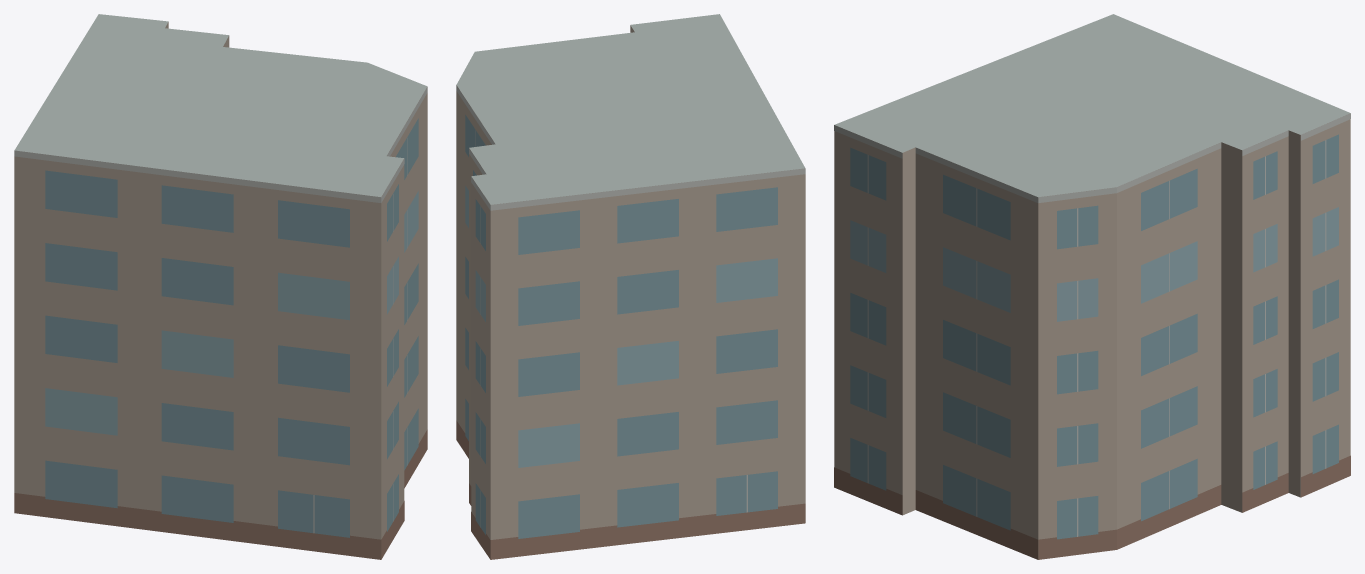
Rendered from survey-upis-32680756.glb.
3 renders of one model, left to right at view 1: azimuth 30°, elevation 25°; view 2: azimuth 150°, elevation 25°; view 3: azimuth 270°, elevation 25°, orthographic. The views are drawn at different scales.
Parts seen in each view (by area): view 1: survey-upis-32680756.tmp; view 2: survey-upis-32680756.tmp; view 3: survey-upis-32680756.tmp.
Boxes of the visible parts, <box> form: survey-upis-32680756.tmp: <box>14,14,427,559</box>; survey-upis-32680756.tmp: <box>456,14,805,559</box>; survey-upis-32680756.tmp: <box>834,14,1350,559</box>.
Size of the model in its own units: 16.05 by 14.8 by 19.12.
